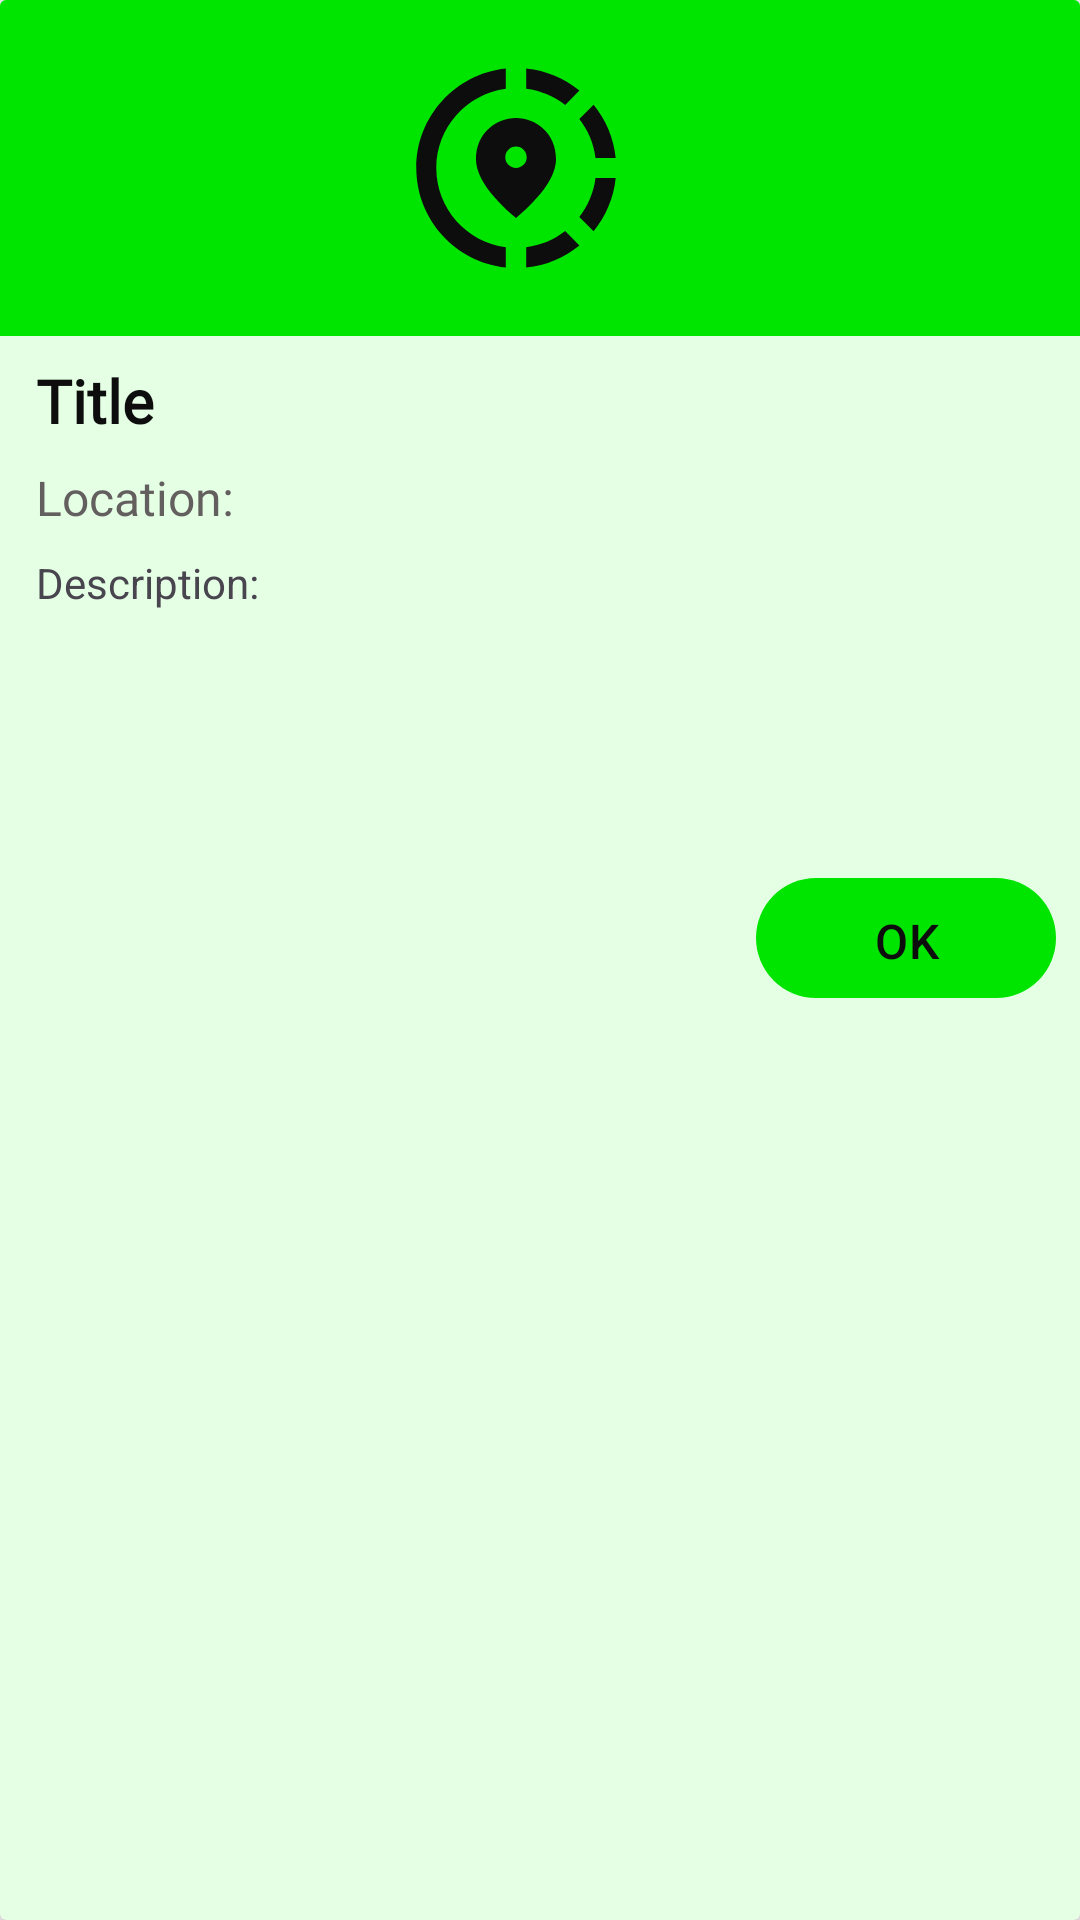

Icons on this 1080×1920 Android screen, each with the point to tap as point (x, y):
share location: point (516, 168)
